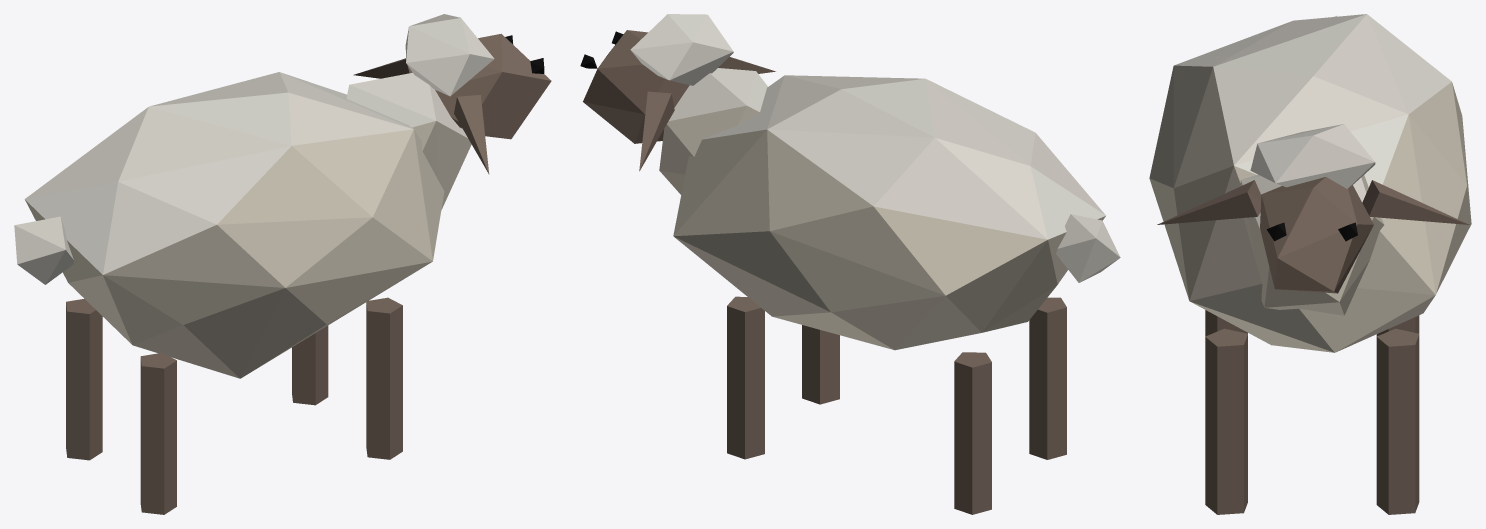
Rendered from lamb.glb.
3 views of the same model, side by side, from view 1: azimuth 30°, elevation 25°; view 2: azimuth 150°, elevation 25°; view 3: azimuth 270°, elevation 25° (orthographic). The views are drawn at different scales.
Parts seen in each view (by area): view 1: base, head_m; view 2: base, head_m; view 3: base, head_m.
Part boxes in pixels (box(x1,y1,x2,y2)): base: box(14, 72, 471, 514); head_m: box(353, 14, 551, 174); base: box(659, 68, 1120, 514); head_m: box(580, 14, 775, 171); base: box(1149, 14, 1471, 514); head_m: box(1157, 124, 1469, 293).
Size of the model in its own units: 0.34 by 0.2356 by 0.158.
